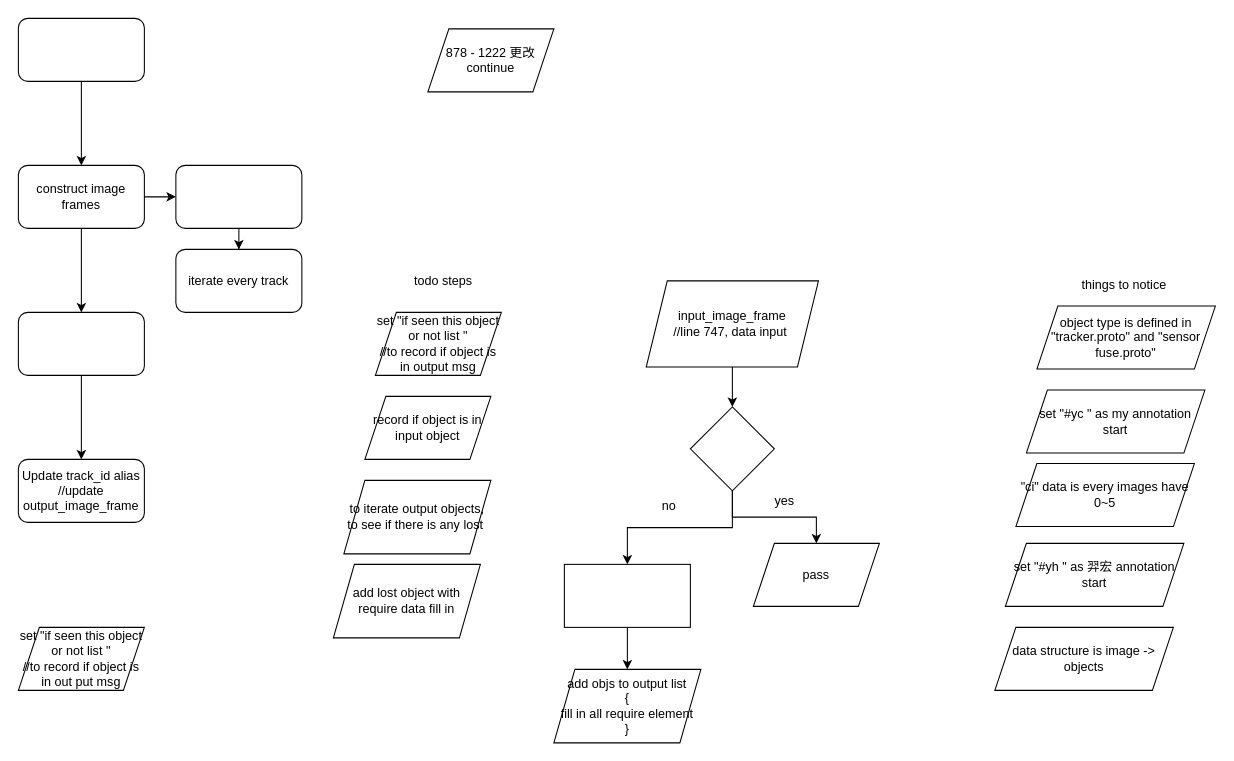
The diagram is 1234 pixels wide and 761 high, and some of its shapes have lost their labels. The shapes that lost their labels are listed below. From the top down, each one's centre as x and y in pixels, then its label:
[80,49]: run tracker for each image frame
[238,196]: iterate every images
[80,343]: output_image_frame //init
[731,448]: check if input objs is in output ID list
[626,595]: record it "ci" (it is in which image -> which object)
